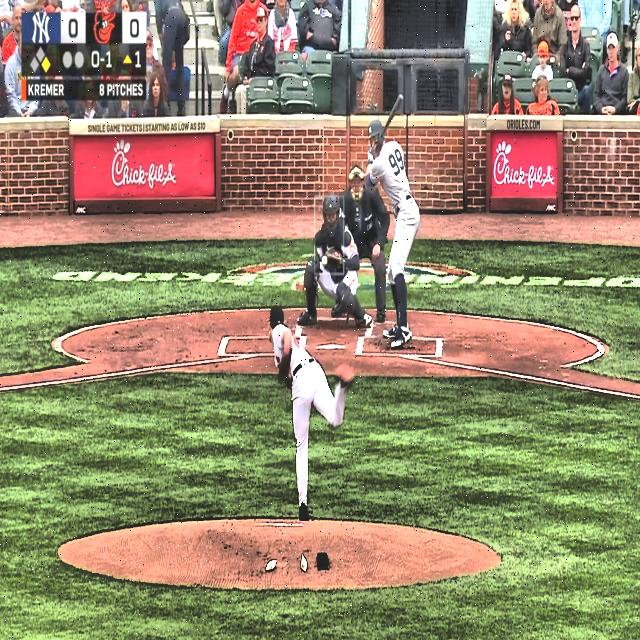baseball: (321, 255, 328, 266)
